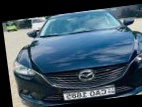car: (7, 3, 142, 107)
